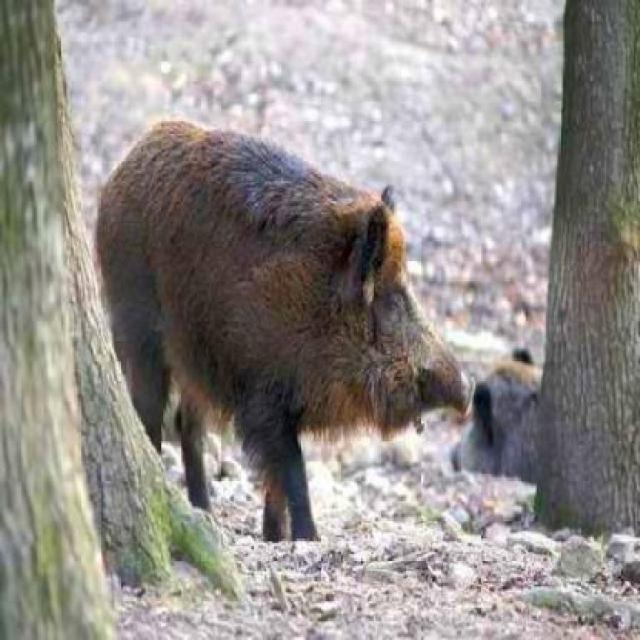Boar: (83, 95, 535, 554)
